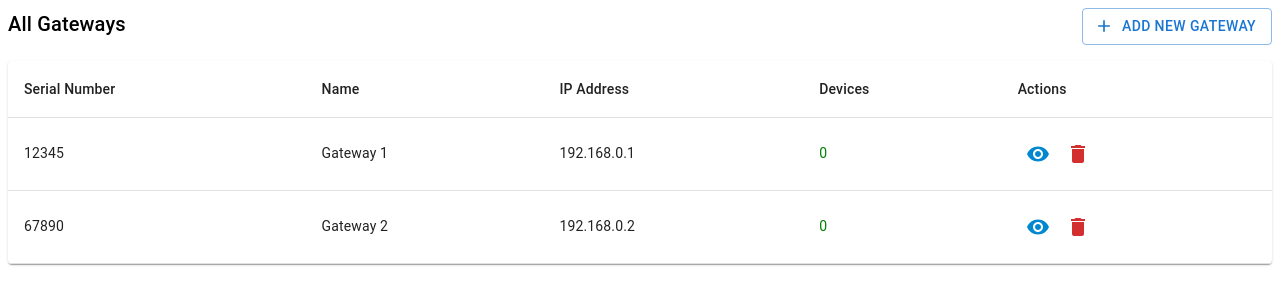
Scenario: GatewayList › should remove a gateway from the table when the Delete button is clicked
The image size is (1280, 283).
Click the button with test id "delete-gateway" in the row of "12345" at (1078, 154), box x1=1058 y1=134 x2=1098 y2=174
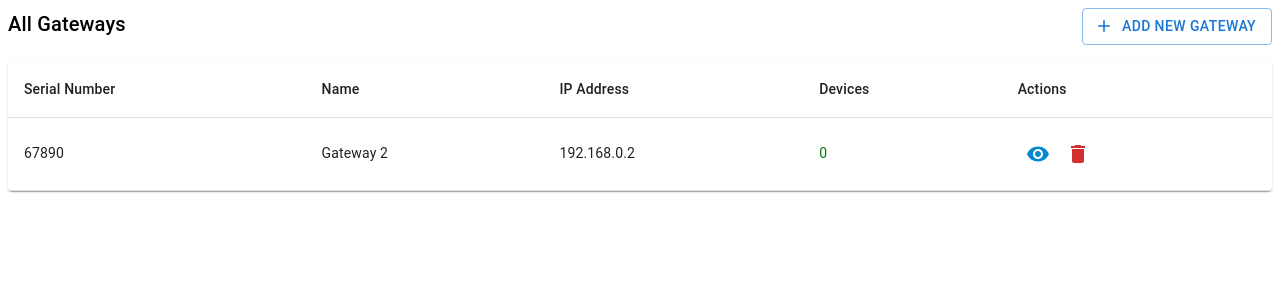
Now the number of rows with test id "row-gateway" is 1, box x1=8 y1=117 x2=1272 y2=190
